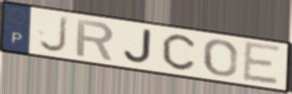C: (160, 33, 197, 72)
E: (242, 39, 283, 87)
J: (37, 14, 69, 54), (122, 28, 153, 65)
O: (202, 38, 239, 78)
R: (75, 17, 117, 62)
